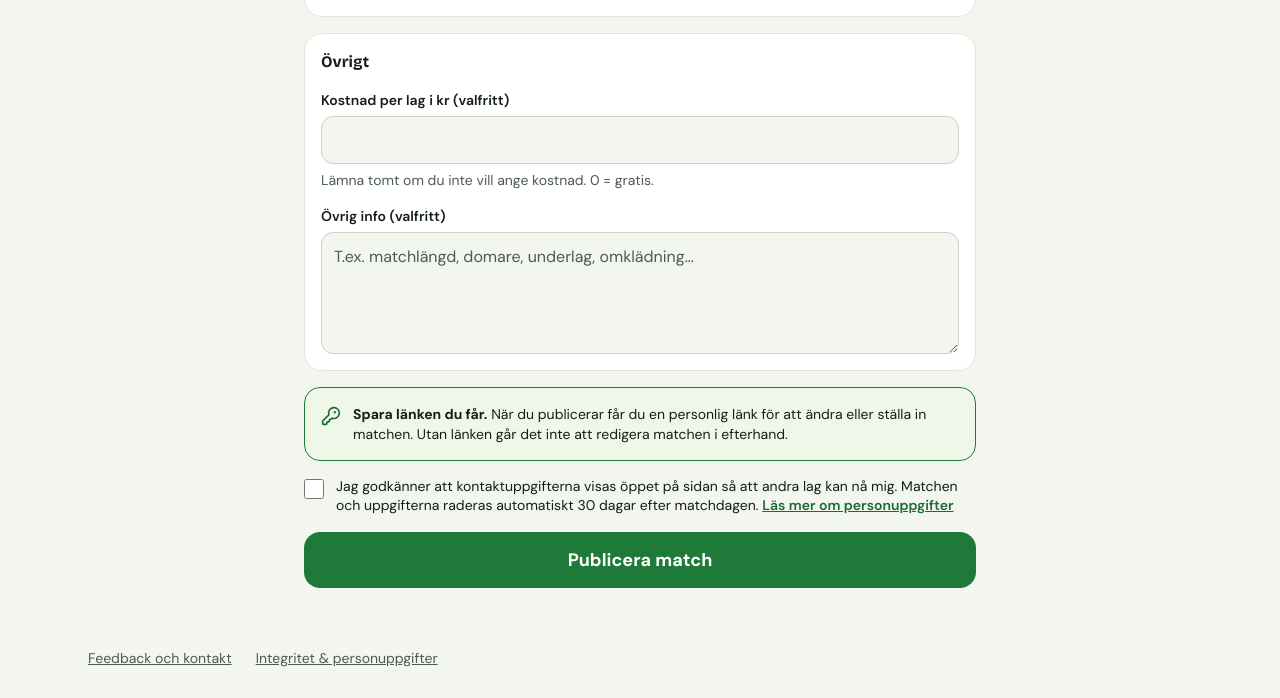
PracticeMatchFormPage › requires every field except cost and notes
The width and height of the screenshot is (1280, 698).
(page scrolled)
Click the button "Publicera match": click(640, 560) [304, 532, 976, 588]
(page scrolled)
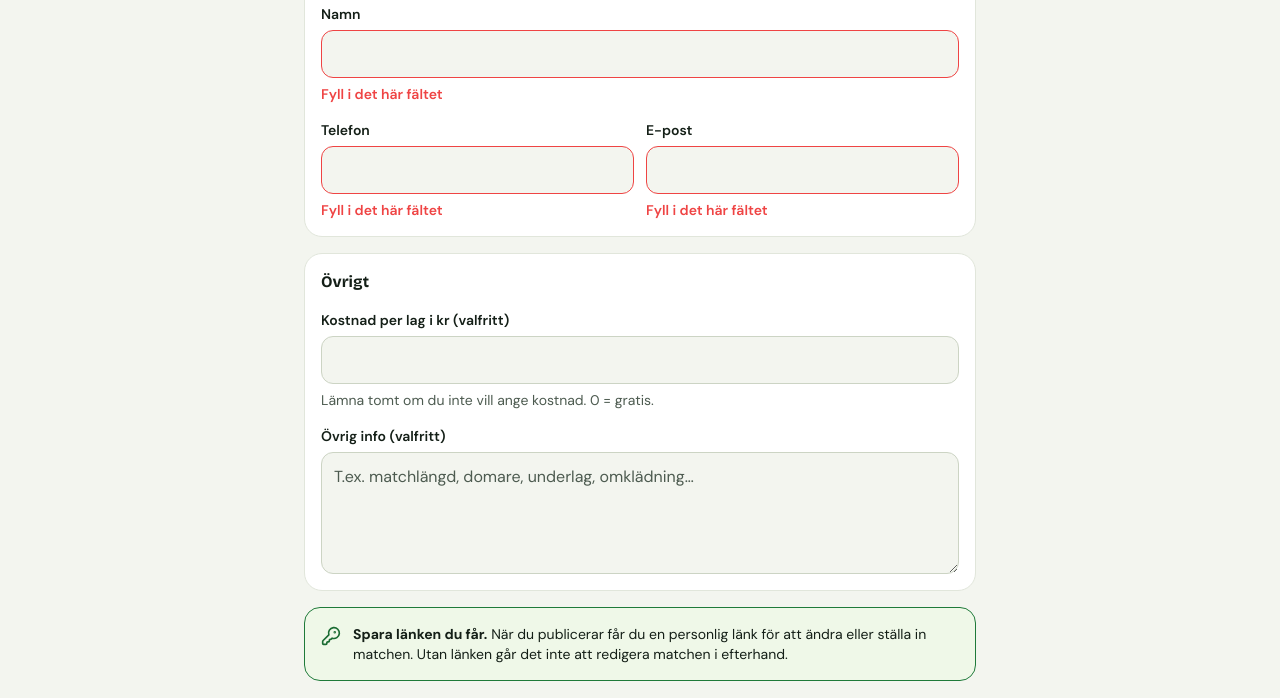
Expected: the text "Fyll i det här fältet" is shown 9 times
